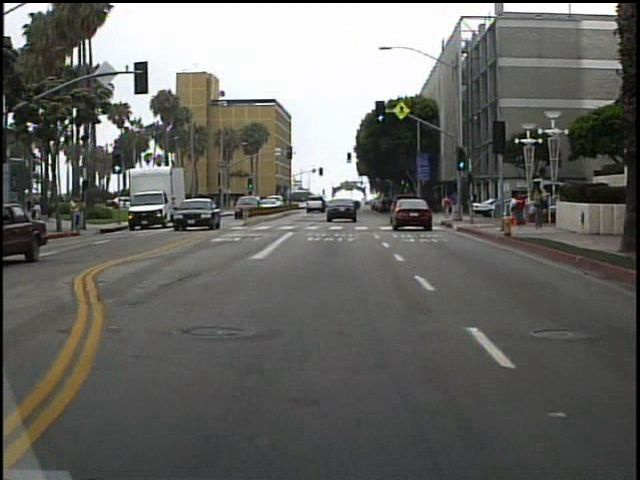person: (70, 194, 83, 238), (439, 194, 455, 219)
